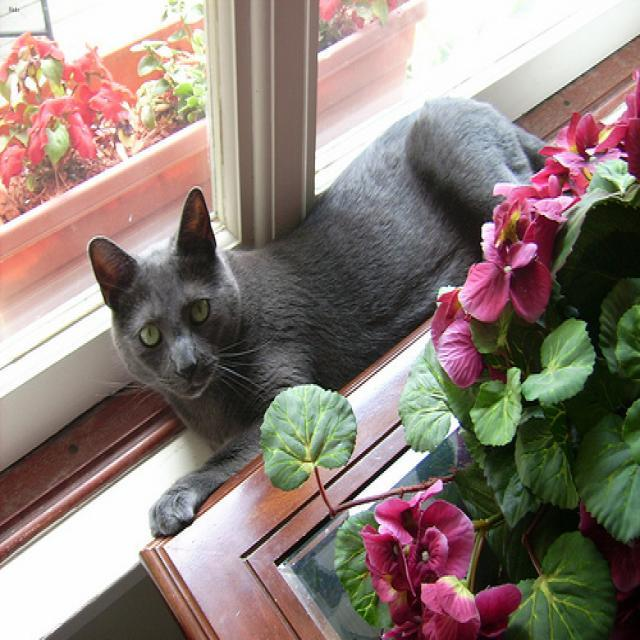Russian_Blue: (87, 186, 247, 405)
